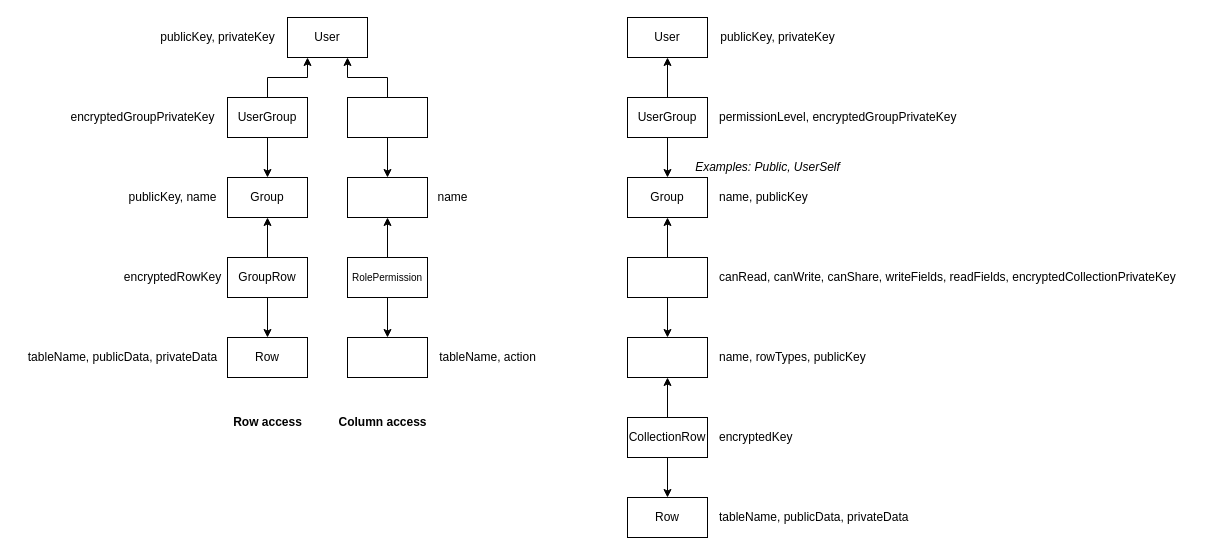
Image size: 1214x555. Some labels were removed from this diagram. Each missing label, with the centre of its shape:
"Collection" belongs at pixel 667 357.
"GroupCollection" belongs at pixel 667 277.
"Permission" belongs at pixel 387 357.
"Role" belongs at pixel 387 197.
"UserRole" belongs at pixel 387 117.
